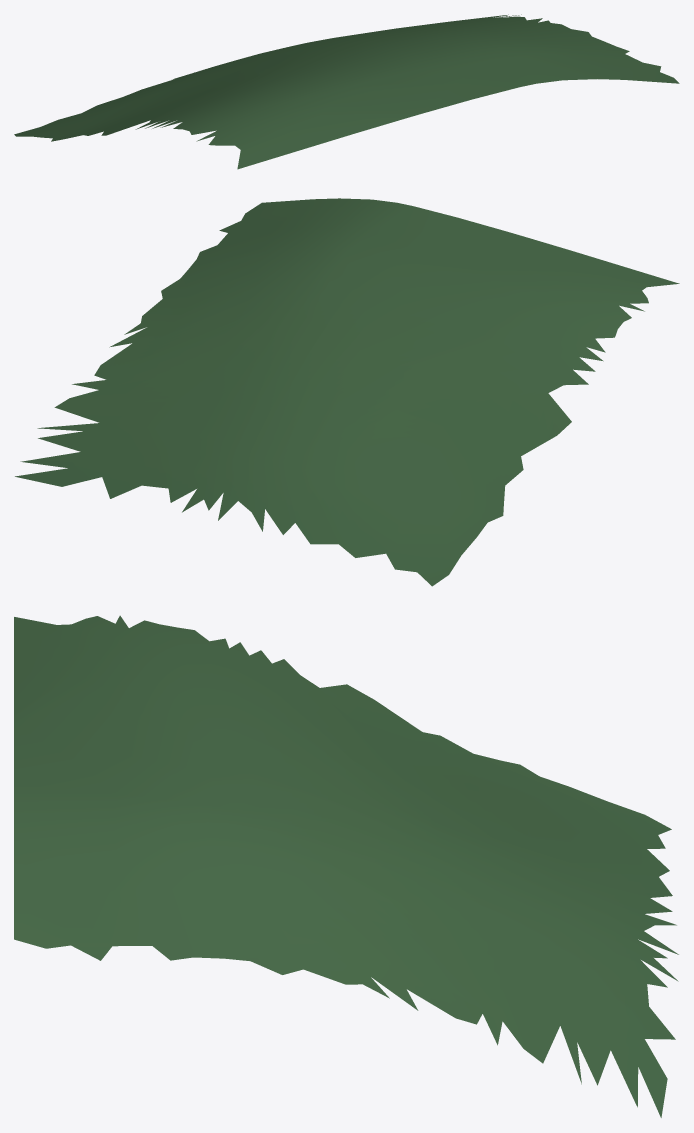
Rendered from payo_land_x1_y10_lod1.glb.
3 views of the same model, one above another, from view 1: azimuth 30°, elevation 25°; view 2: azimuth 150°, elevation 25°; view 3: azimuth 270°, elevation 25° (orthographic). The views are drawn at different scales.
Visible parts, largest first — view 1: payo_land_x1_y10; view 2: payo_land_x1_y10; view 3: payo_land_x1_y10.
Part boxes in pixels (left/top/right/bottom): payo_land_x1_y10: left=14, top=14, right=679, bottom=169; payo_land_x1_y10: left=15, top=198, right=679, bottom=586; payo_land_x1_y10: left=14, top=615, right=678, bottom=1117.
Size of the model in its own units: 283 by 90.21 by 250.
